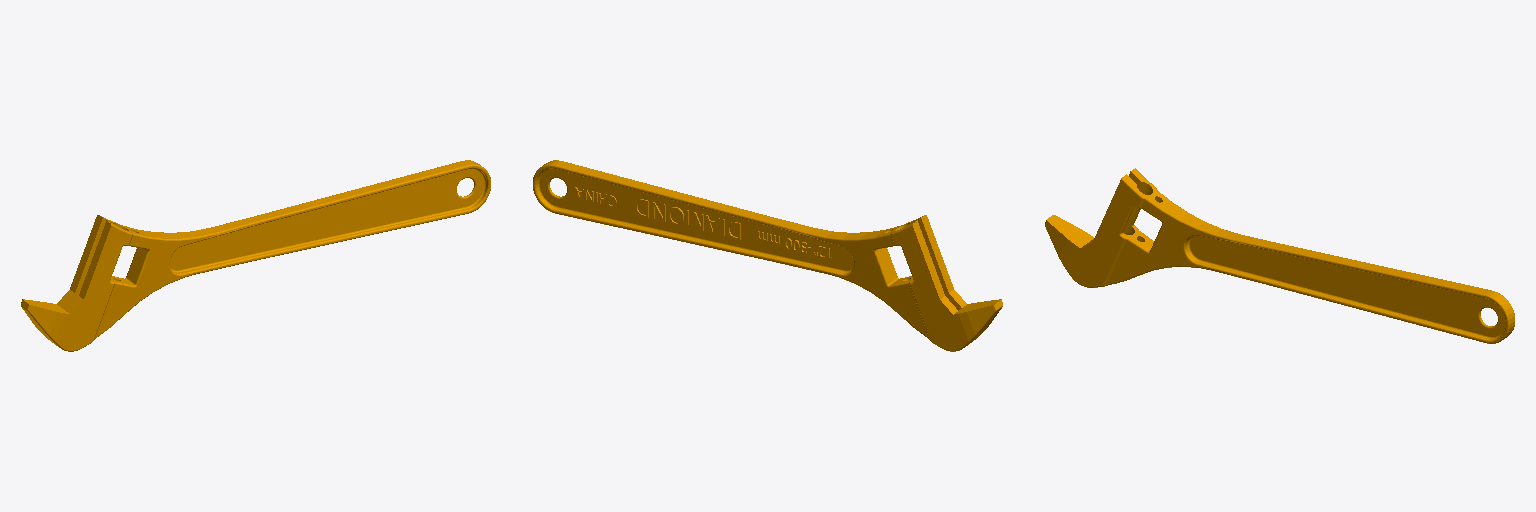
robot.urdf — wrench_3_L0.85_T0.85:
<?xml version="1.0" encoding="utf-8"?>
<robot name="wrench_3_L0.85_T0.85">
  <link name="wrench_3_L0.85_T0.85Link">
    <contact>
      <lateral_friction value="1"/>
    </contact>
    <inertial>
      <origin rpy="0 0 0" xyz="0 0 0"/>
      <mass value="0.0"/>
      <inertia ixx="0" ixy="0" ixz="0" iyy="0" iyz="0" izz="0"/>
    </inertial>
    <visual>
      <origin rpy="0 0 0" xyz="0 0 0"/>
      <geometry>
        <mesh filename="generated_stl/wrench/wrench_3/wrench_3_L0.85_T0.85/wrench_3_L0.85_T0.85.stl" scale="0.01 0.01 0.01"/>
      </geometry>
    </visual>
    <collision>
      <origin rpy="0 0 0" xyz="0 0 0"/>
      <geometry>
        <mesh filename="generated_stl/wrench/wrench_3/wrench_3_L0.85_T0.85/wrench_3_L0.85_T0.85.stl" scale="0.01 0.01 0.01"/>
      </geometry>
    </collision>
  </link>
</robot>

--- Facts derived from the render (not from the file) ---
3 views of the same robot in one strip: view 1: azimuth 30°, elevation 25°; view 2: azimuth 150°, elevation 25°; view 3: azimuth 330°, elevation 25° (orthographic).
Model wrench_3_L0.85_T0.85 with 1 links and 0 joints (none), rooted at wrench_3_L0.85_T0.85Link, posed all joints at 0.
Visible links, largest first — view 1: wrench_3_L0.85_T0.85Link; view 2: wrench_3_L0.85_T0.85Link; view 3: wrench_3_L0.85_T0.85Link.
Link boxes in pixels (<box>): wrench_3_L0.85_T0.85Link: <box>21,160,490,351</box>; wrench_3_L0.85_T0.85Link: <box>533,160,1002,351</box>; wrench_3_L0.85_T0.85Link: <box>1045,168,1514,343</box>.
Bounding box of the posed robot: 0.085 × 0.0045 × 0.0207 m (x, y, z).
1 mesh visuals loaded from 1 distinct referenced files (1 binary STL).